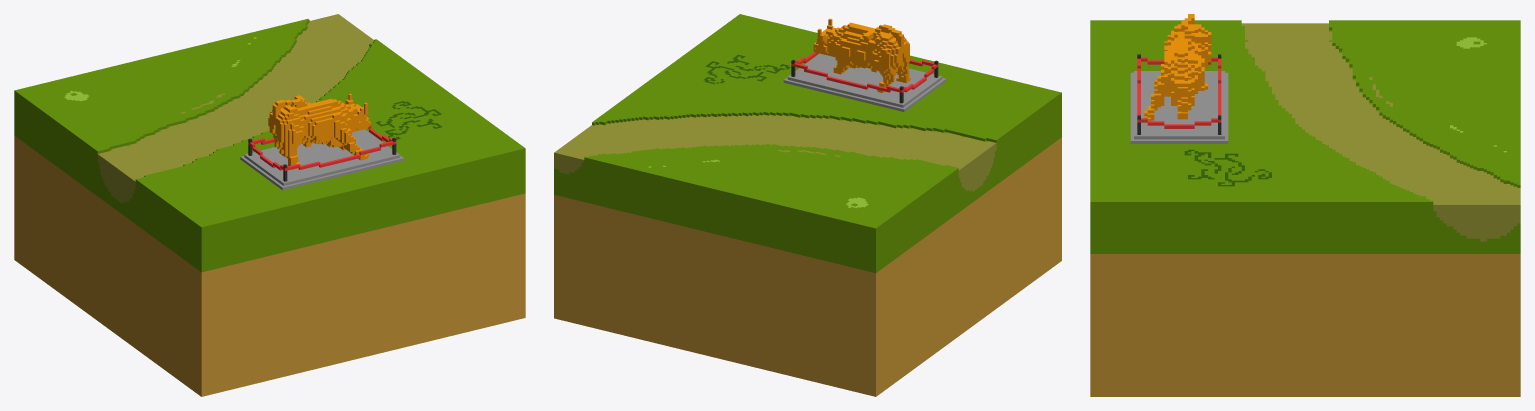
The picture shows the model from 3 angles, left to right: view 1: azimuth 30°, elevation 25°; view 2: azimuth 150°, elevation 25°; view 3: azimuth 270°, elevation 25°; orthographic projection. The views are drawn at different scales.
Parts seen in each view (by area): view 1: 9H; view 2: 9H; view 3: 9H.
Boxes of the visible parts, x1,y1,x2,y2 form: 9H: (14, 14, 525, 396); 9H: (554, 14, 1061, 396); 9H: (1090, 14, 1520, 396).
Bounding box in the file's own units: 12.8 × 8.8 × 12.8.
Materials: 1 (1 with a texture image).
